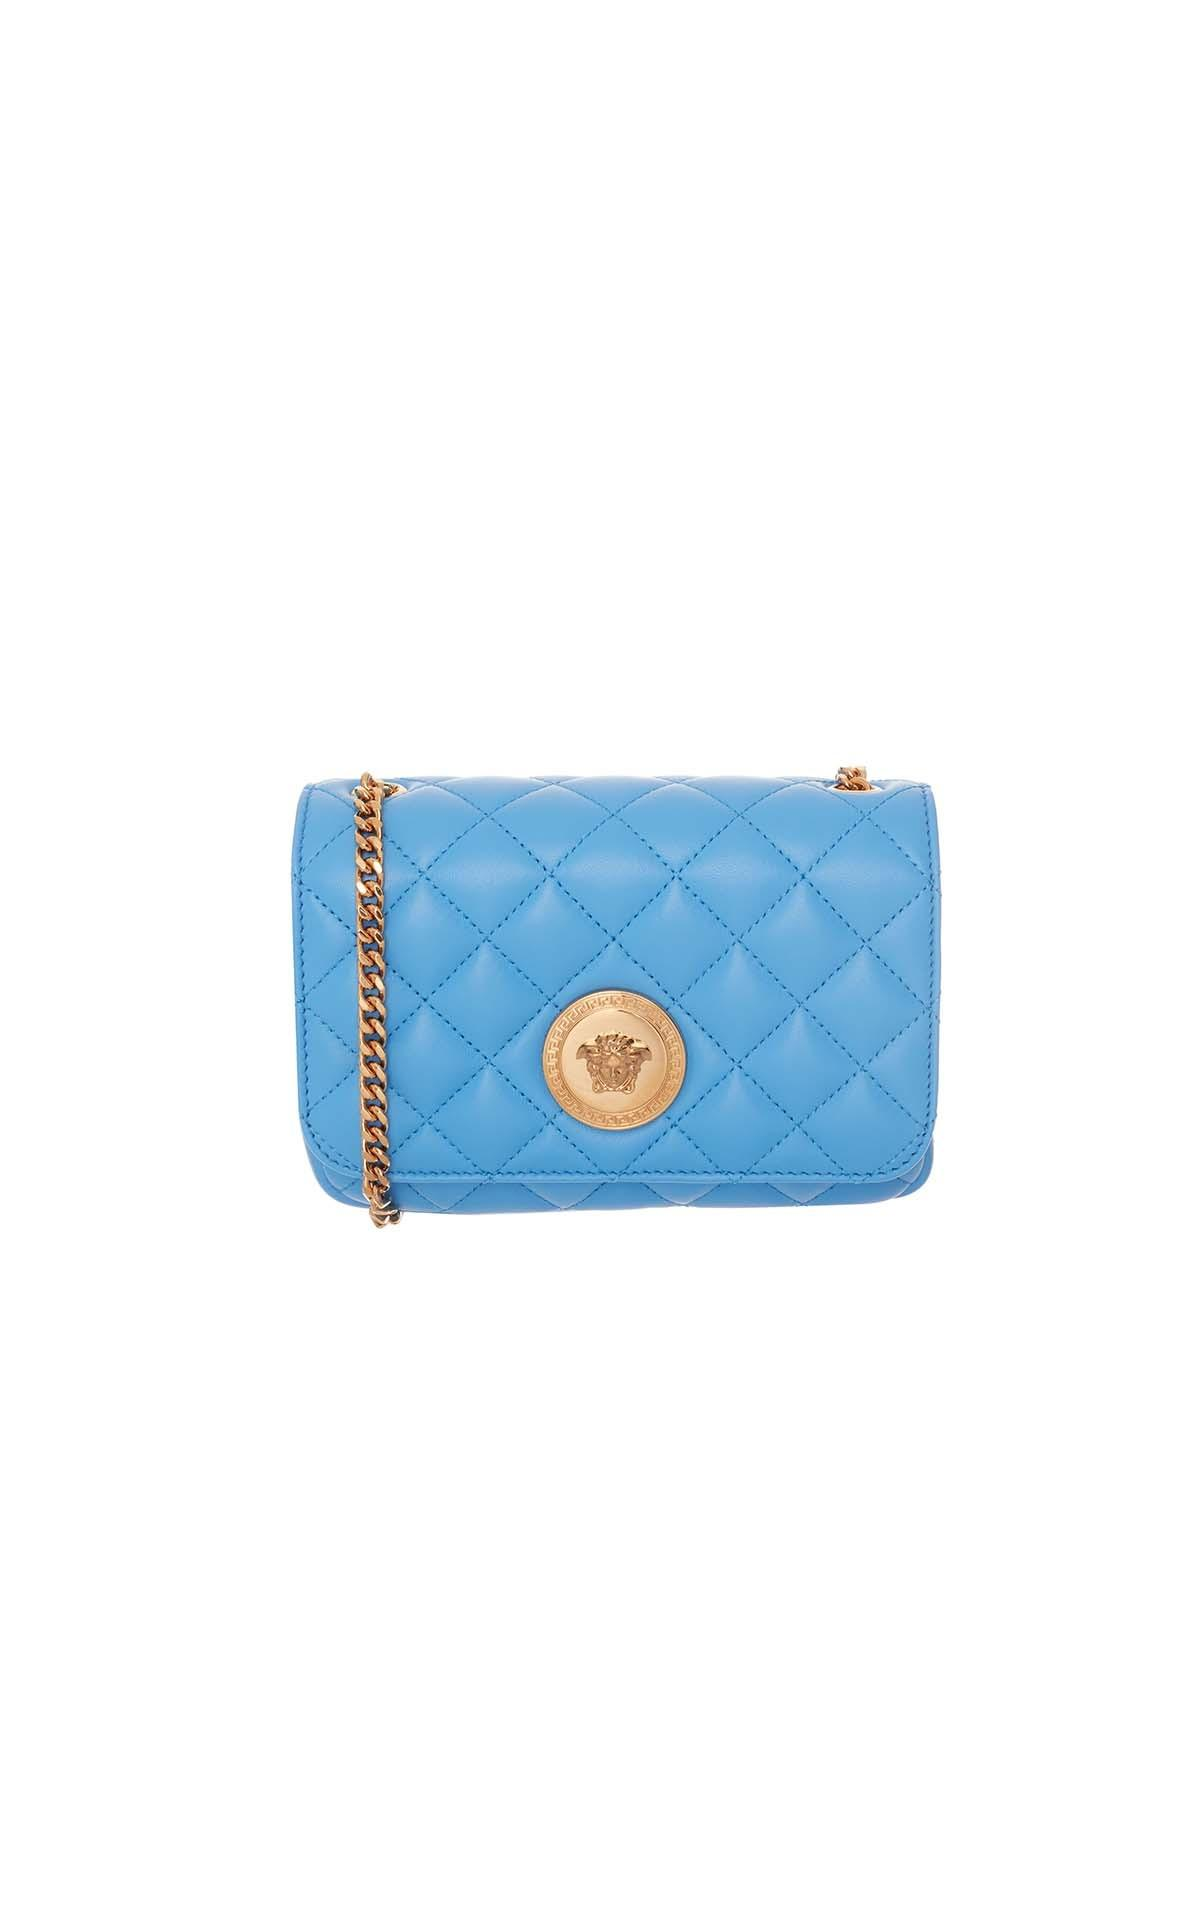VERSACE: (539, 987, 686, 1131)
